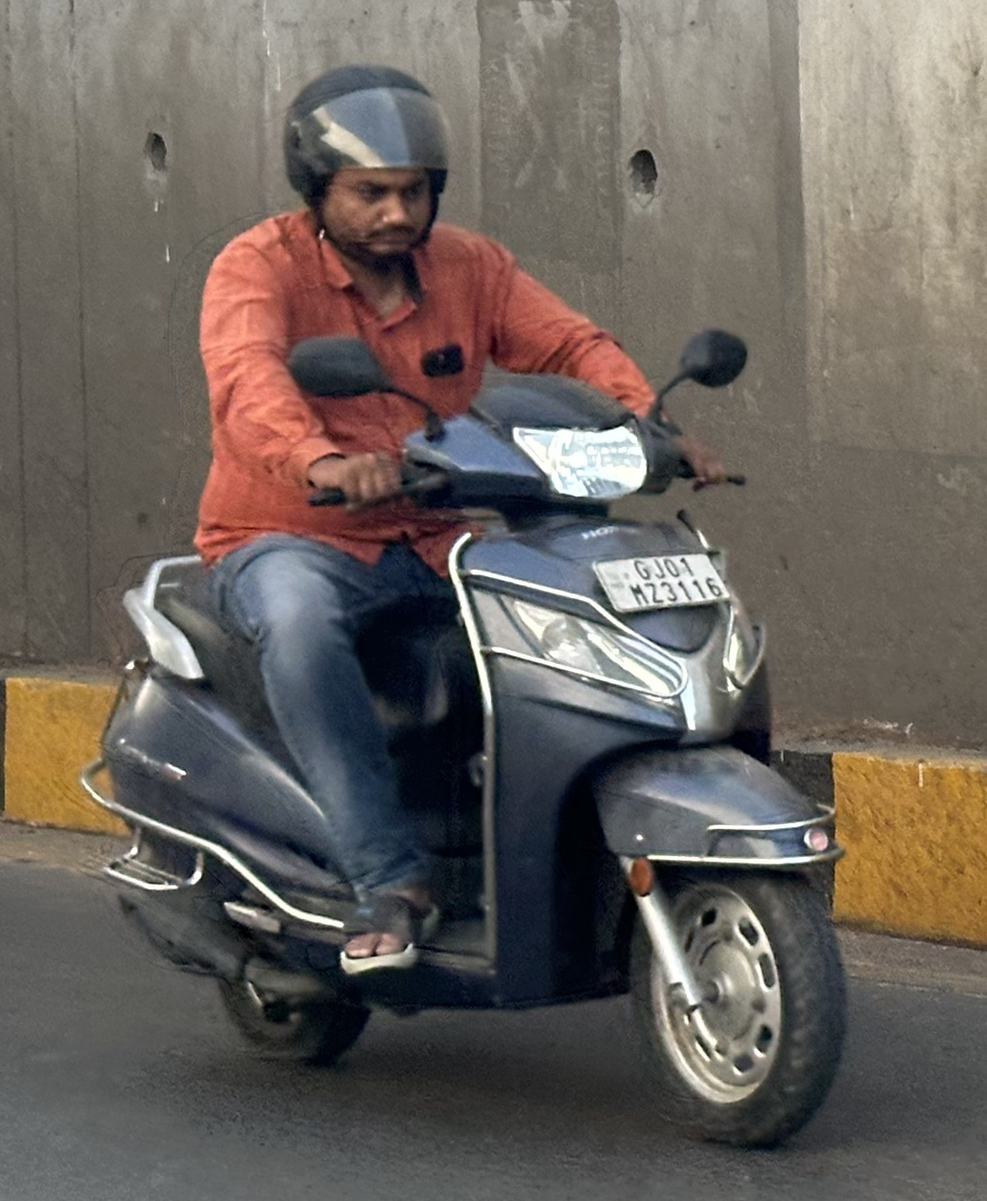BikeWithRider: (61, 48, 870, 1159)
Helmet: (264, 51, 470, 271)
